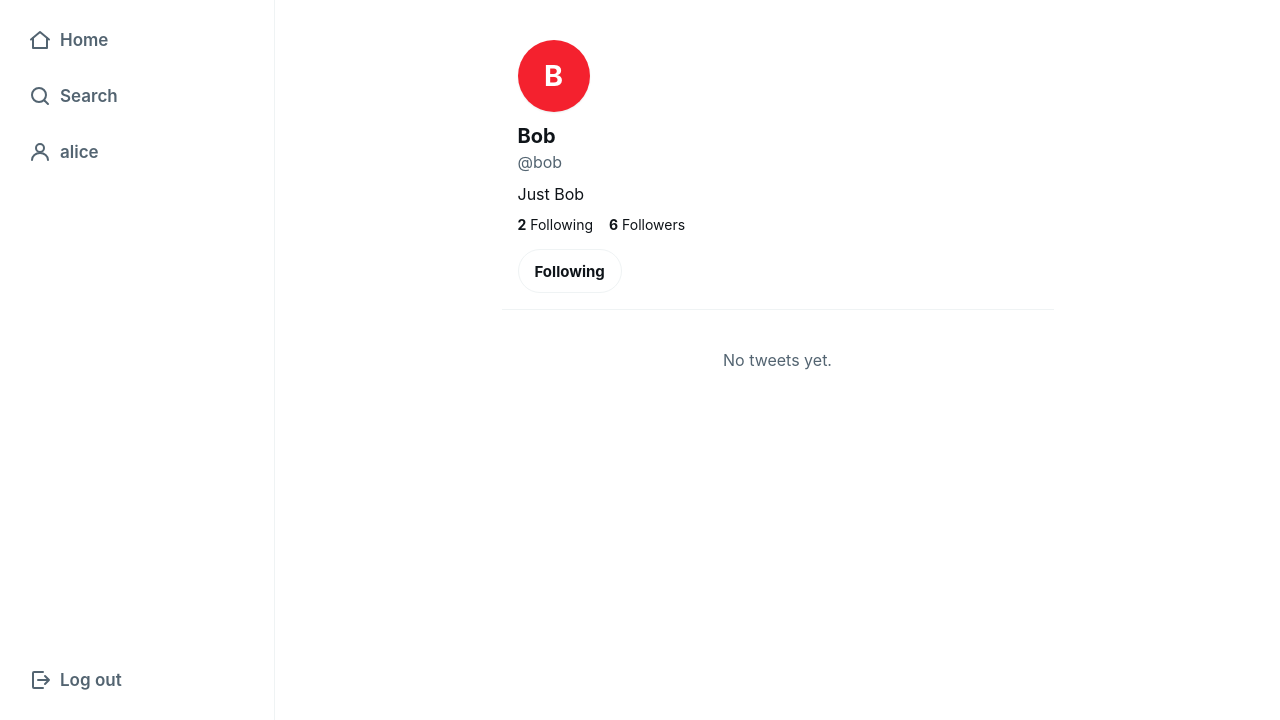
Scenario: follow flow › unfollows a user and updates the button and follower count
Expected: the text "6" is shown, [609,216,618,233]
Click the button "Following": [570, 271] box [518,249,622,293]
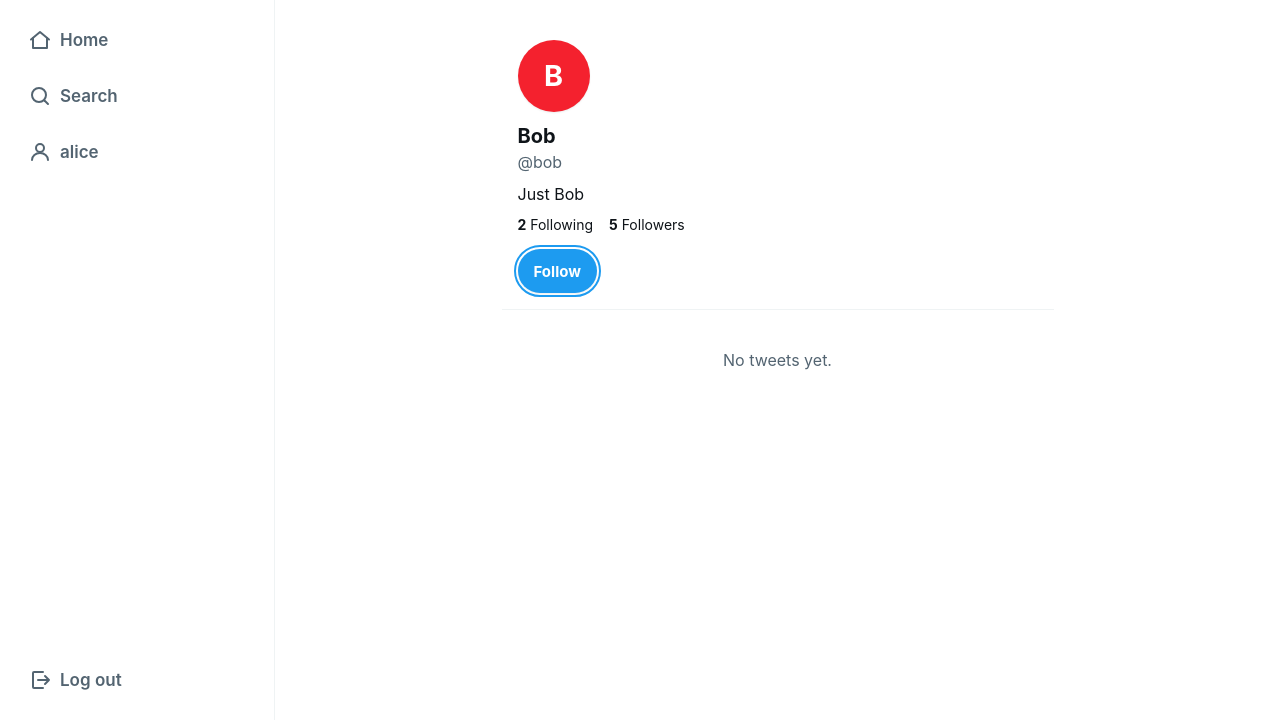
Expected: the button "Follow" is shown, [518,249,597,293]
Expected: the text "5" is shown, [609,216,618,233]
